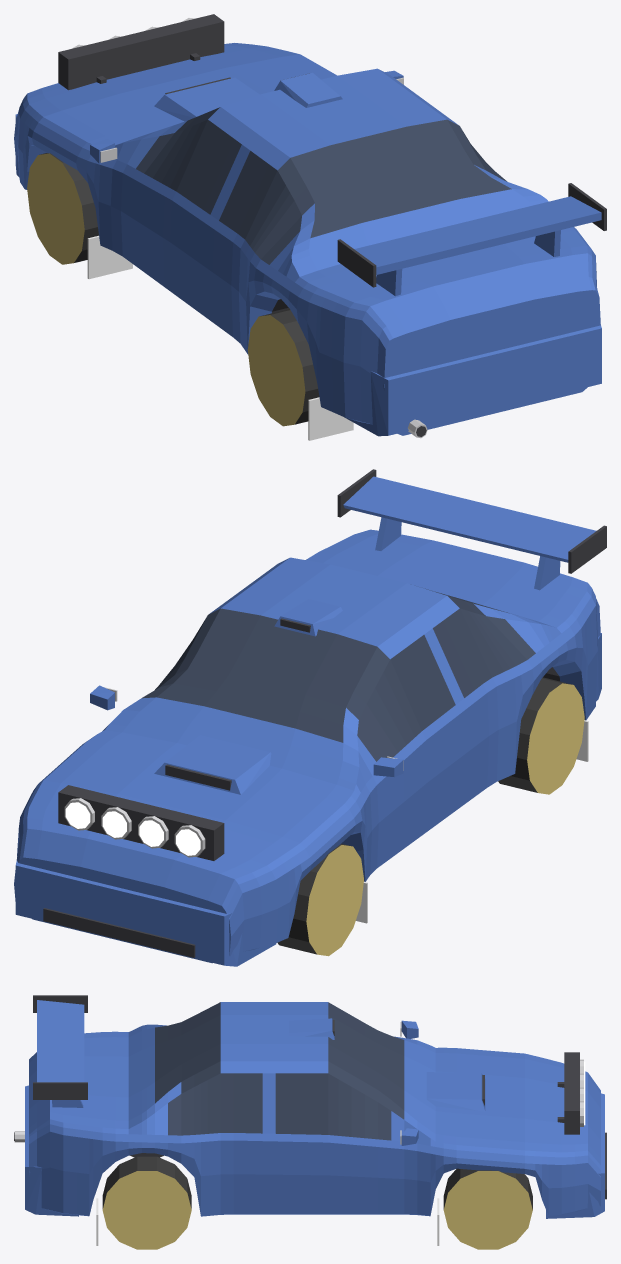
File: pleiad.glb
The picture shows the model from 3 angles, top to bottom: view 1: azimuth 30°, elevation 25°; view 2: azimuth 150°, elevation 25°; view 3: azimuth 270°, elevation 25°; orthographic projection. The views are drawn at different scales.
Parts seen in each view (by area): view 1: Body, Bumper_R, Spoiler, LightPod, Wheel_RL, Wheel_FL, MudFlaps; view 2: Body, Bumper_F, Spoiler, LightPod, Wheel_RL, Wheel_FL; view 3: Body, Wheel_RR, Wheel_FR, Spoiler, LightPod, Bumper_R, Bumper_F.
Boxes of the visible parts, x1,y1,x2,y2 form: Body: (14, 43, 600, 435); Bumper_R: (345, 325, 601, 436); Spoiler: (337, 183, 606, 296); LightPod: (58, 14, 224, 90); Wheel_RL: (247, 309, 319, 426); Wheel_FL: (27, 153, 98, 264); MudFlaps: (87, 235, 353, 440); Body: (14, 529, 601, 963); Bumper_F: (15, 860, 276, 966); Spoiler: (337, 469, 606, 590); LightPod: (58, 785, 224, 860); Wheel_RL: (498, 677, 584, 794); Wheel_FL: (277, 843, 363, 956); Body: (29, 1002, 600, 1216); Wheel_RR: (102, 1156, 191, 1249); Wheel_FR: (443, 1168, 532, 1249); Spoiler: (33, 995, 87, 1107); LightPod: (557, 1052, 585, 1134); Bumper_R: (25, 1085, 78, 1216); Bumper_F: (546, 1093, 606, 1218).
Bounding box in the file's own units: 2.07 × 1.45 × 4.52.
